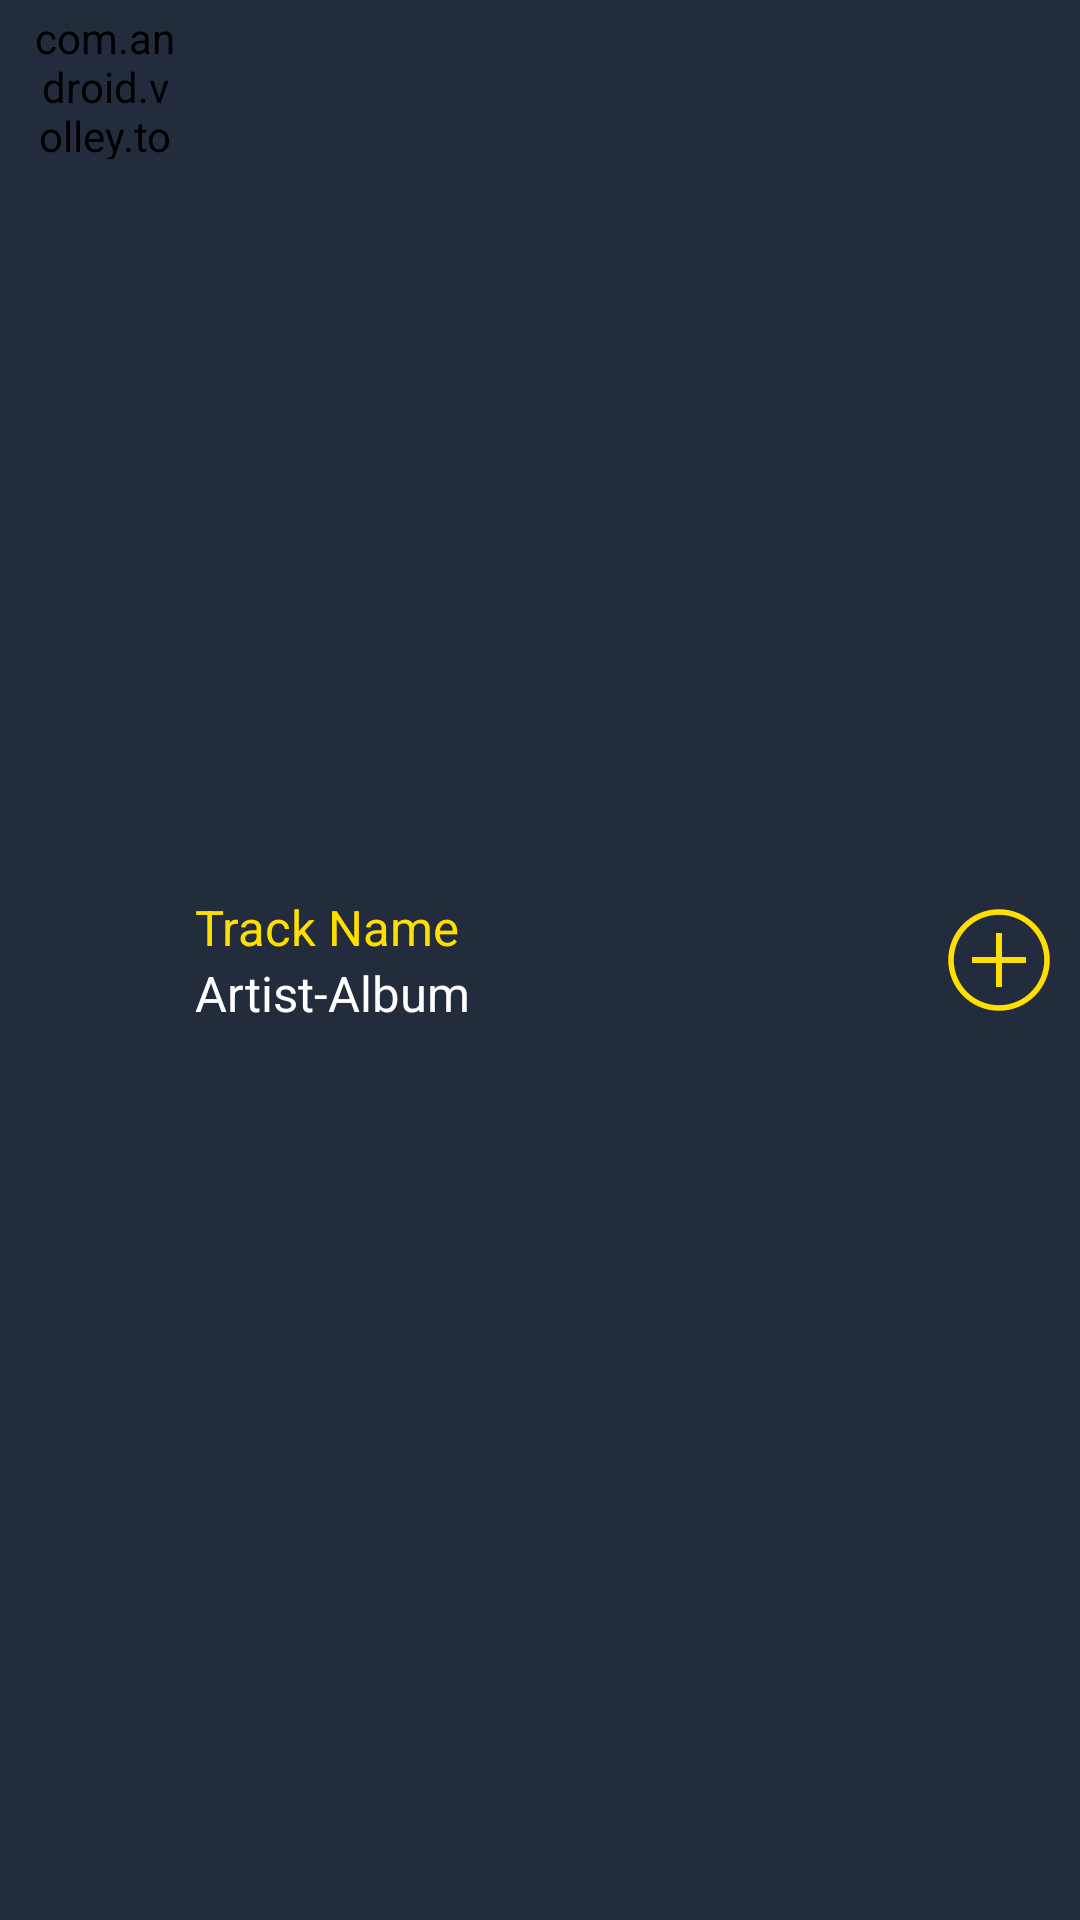

Named icons in this screenshot (1080 × 1920) and their centers, point (x, y):
add: point (999, 960)
